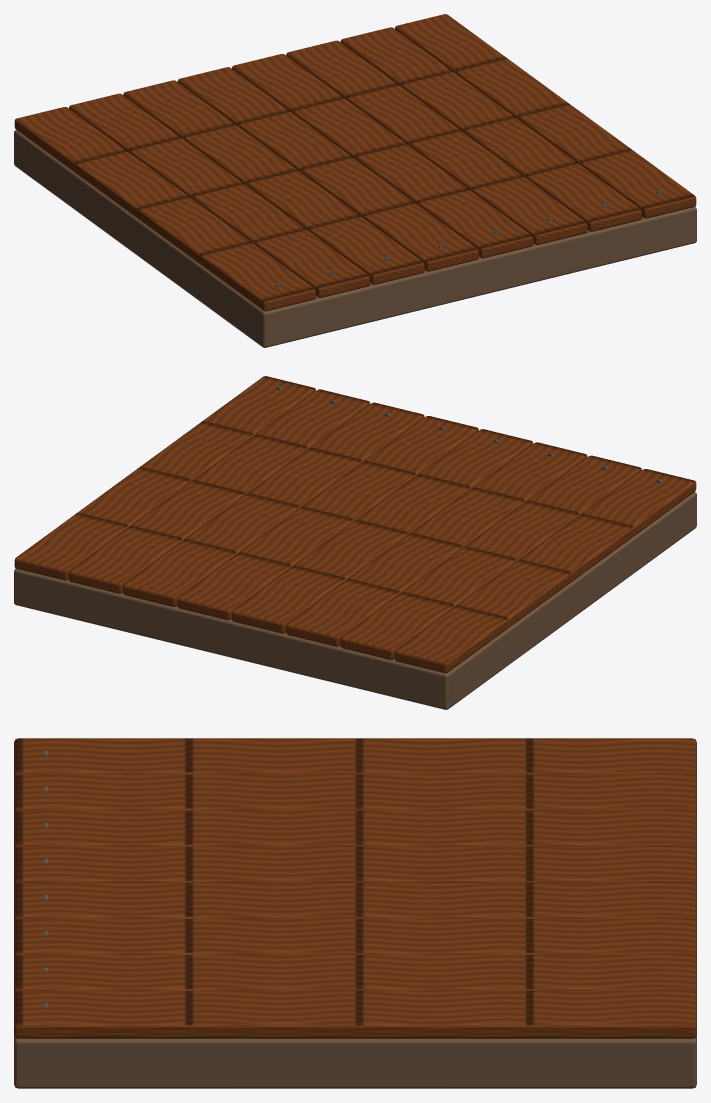
The model's file is adventurers-tavern-and-guild-hall-floor-tile-eca03e44__24670.glb.
3 views of the same model, one above another, from view 1: azimuth 30°, elevation 25°; view 2: azimuth 150°, elevation 25°; view 3: azimuth 270°, elevation 25° (orthographic). The views are drawn at different scales.
Visible parts, largest first — view 1: floor-tile; view 2: floor-tile; view 3: floor-tile.
Part boxes in pixels (x1,y1,x2,y2): floor-tile: (14,14,696,347); floor-tile: (14,376,696,709); floor-tile: (14,738,696,1088).
Size of the model in its own units: 2 by 0.222 by 2.
3 materials, 1 textured.
